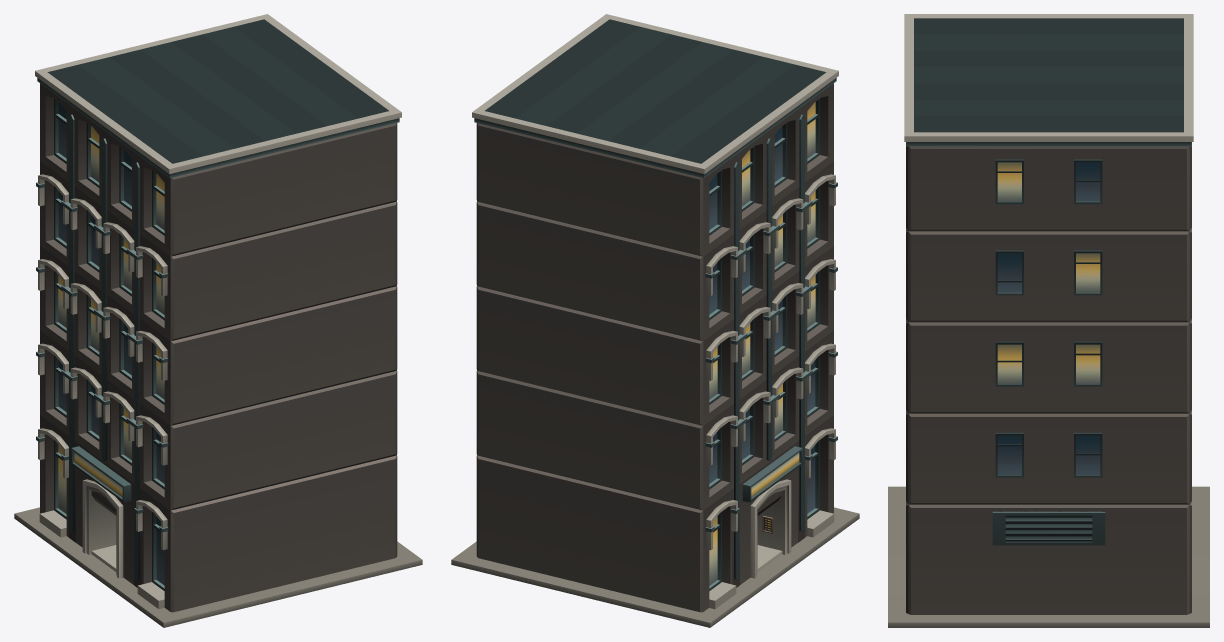
Rendered from Building_19A.fbx.
The picture shows the model from 3 angles, left to right: view 1: azimuth 30°, elevation 25°; view 2: azimuth 150°, elevation 25°; view 3: azimuth 270°, elevation 25°; orthographic projection. The views are drawn at different scales.
Parts seen in each view (by area): view 1: Building_19A, Window_Lights_19A; view 2: Building_19A, Window_Lights_19A; view 3: Building_19A, Window_Lights_19A.
Boxes of the visible parts, x1,y1,x2,y2 form: Building_19A: [14, 14, 422, 627]; Window_Lights_19A: [58, 126, 164, 513]; Building_19A: [451, 14, 859, 627]; Window_Lights_19A: [709, 102, 815, 585]; Building_19A: [888, 14, 1209, 627]; Window_Lights_19A: [997, 162, 1100, 383].
Size of the model in its own units: 1600 by 2660 by 1600.
